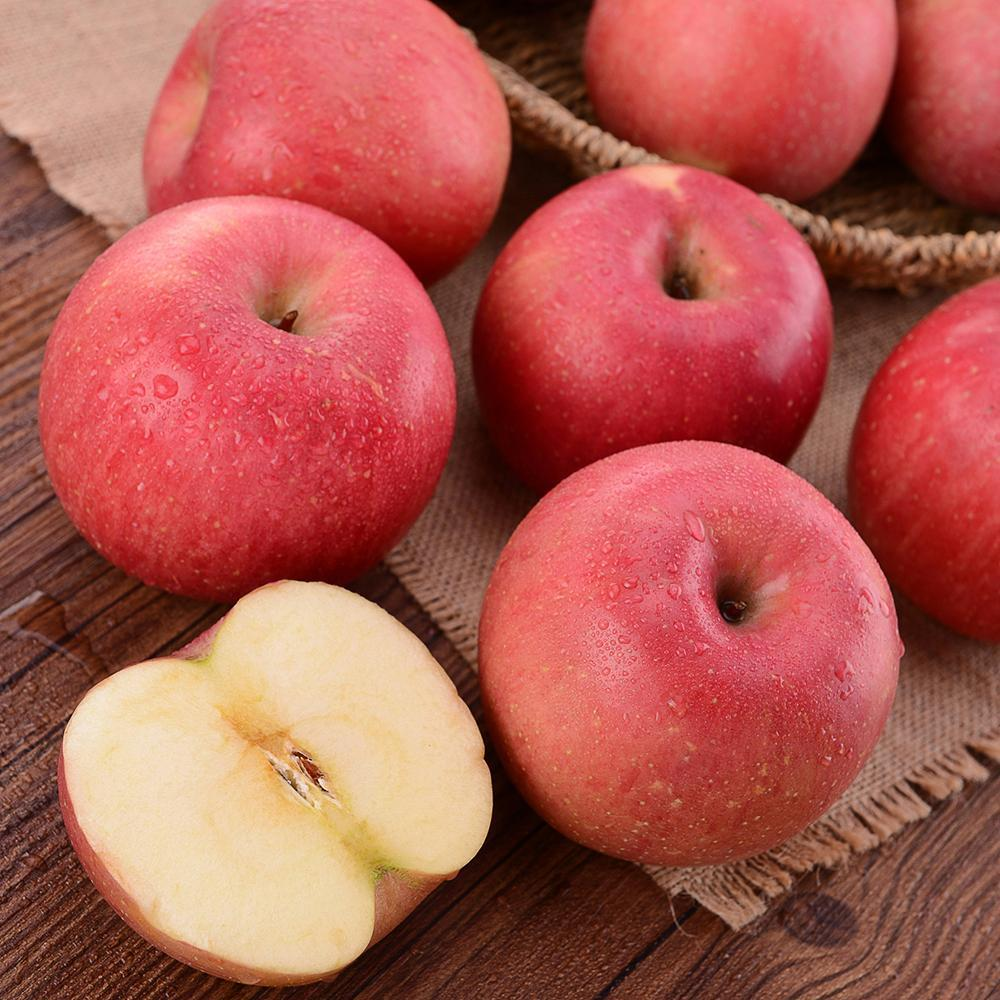apple: (43, 190, 463, 623), (472, 426, 900, 849), (472, 160, 829, 489), (136, 6, 511, 275), (582, 1, 904, 205), (845, 274, 1000, 646), (878, 1, 998, 215)
